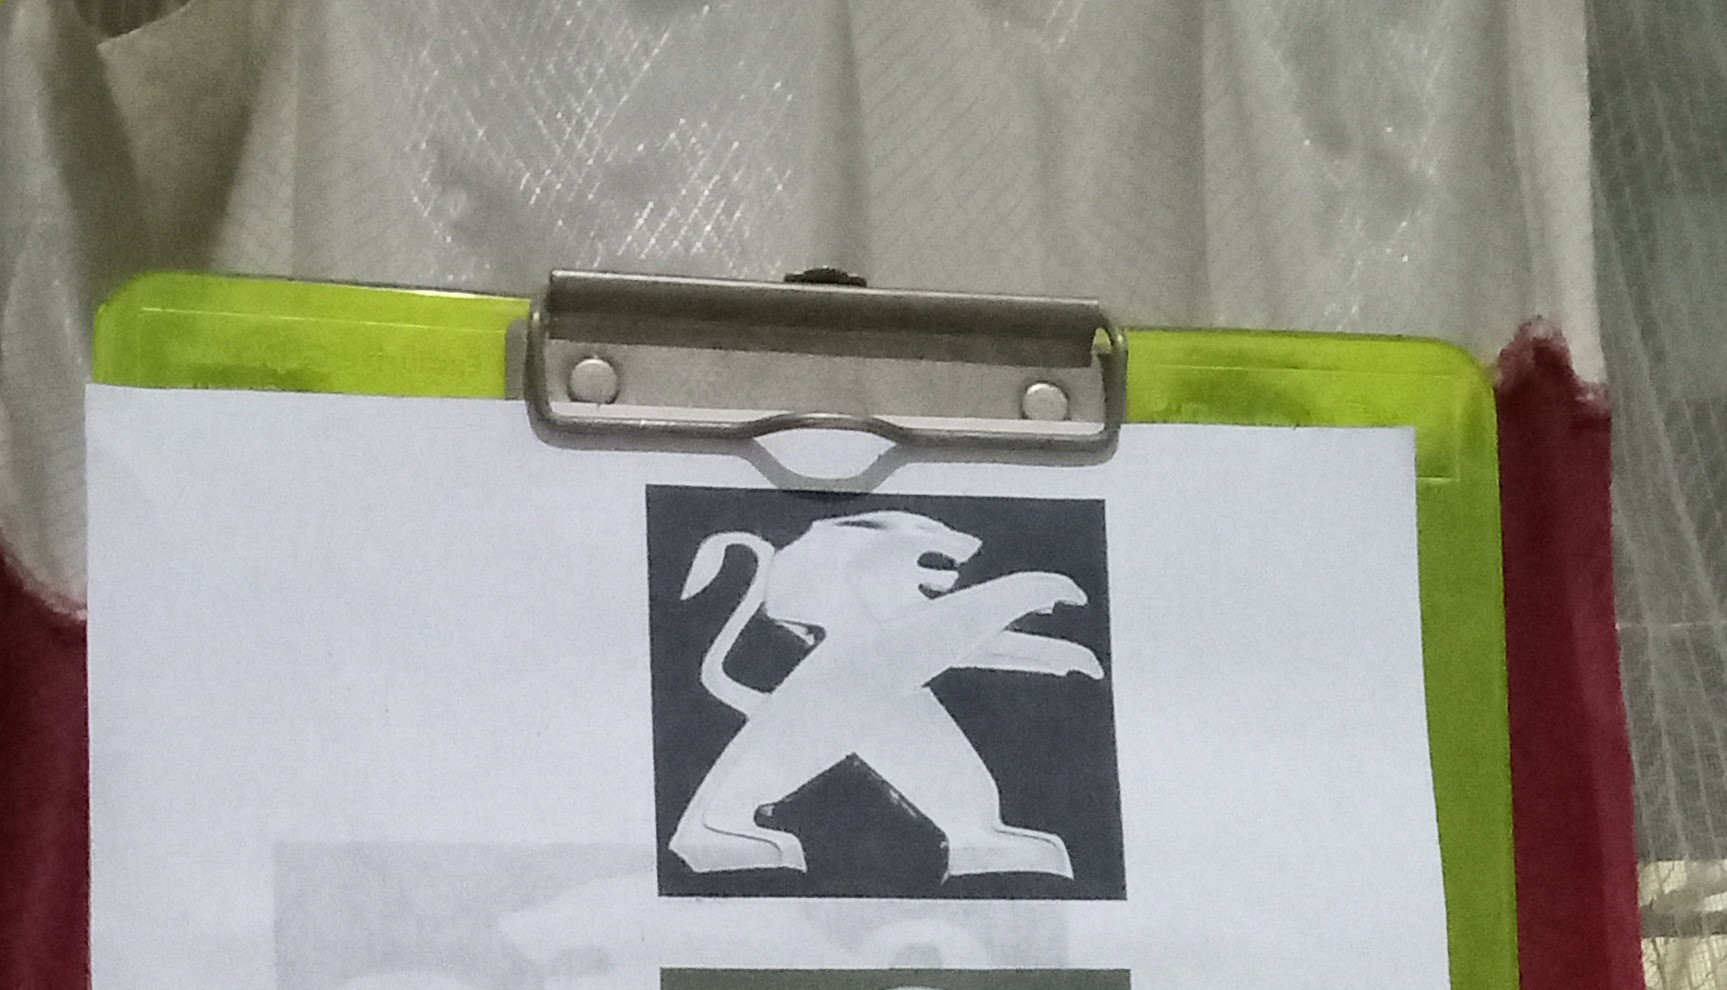Peugeot: (649, 491, 1126, 892)
